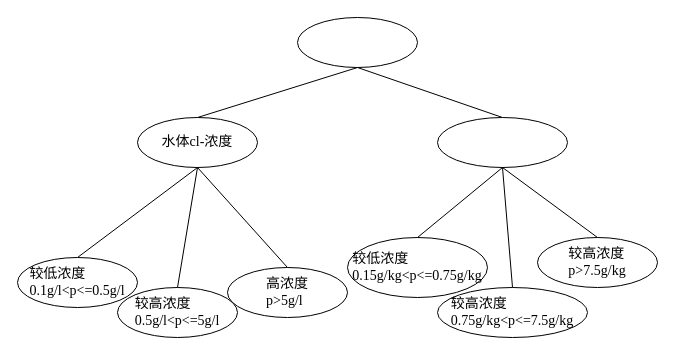
The diagram is 675 pixels wide and 355 high, and some of its shapes have lost their labels. Here are the shapes that lost their labels. From the top down, the centre of each, then its label:
(357,42): Ⅳ 子类
(502,142): 土体cl-浓度
